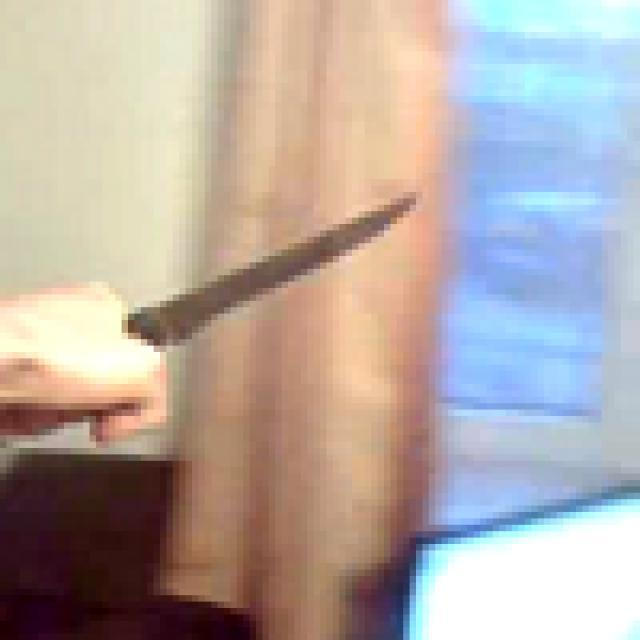Knife: (70, 180, 468, 390)
